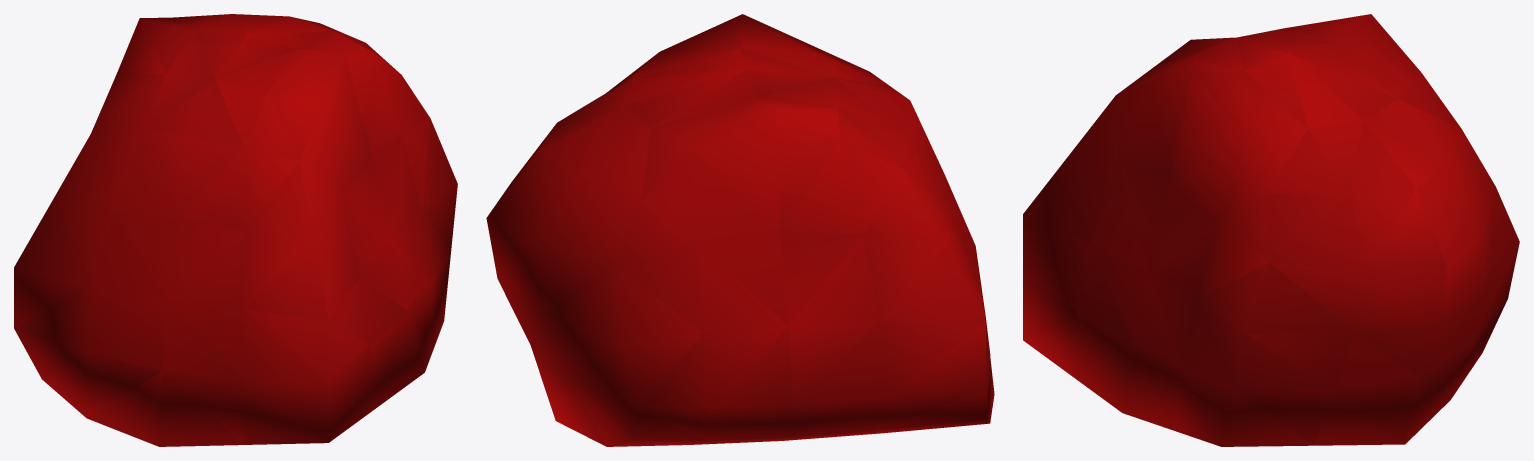
The model's file is geology-pebbles-sandchunk_v2.fbx.
3 views of the same model, side by side, from view 1: azimuth 30°, elevation 25°; view 2: azimuth 150°, elevation 25°; view 3: azimuth 270°, elevation 25° (orthographic). The views are drawn at different scales.
Visible parts, largest first — view 1: SandChunk_v2; view 2: SandChunk_v2; view 3: SandChunk_v2.
Boxes of the visible parts, x1,y1,x2,y2 form: SandChunk_v2: (14,14,457,446); SandChunk_v2: (486,14,994,446); SandChunk_v2: (1023,14,1519,446).
Bounding box in the file's own units: 7.29 × 5.4 × 7.27.
